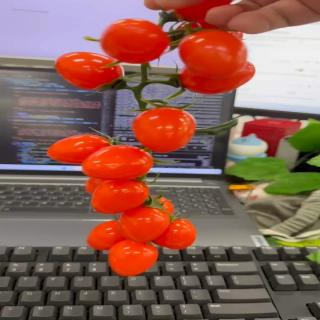tomato: (100, 17, 174, 65), (180, 30, 249, 81), (132, 104, 196, 152), (54, 52, 128, 92), (179, 61, 256, 94), (90, 177, 150, 215), (83, 145, 150, 179), (47, 133, 117, 165), (107, 239, 164, 277), (121, 205, 170, 244), (88, 220, 137, 252), (152, 217, 198, 251)
